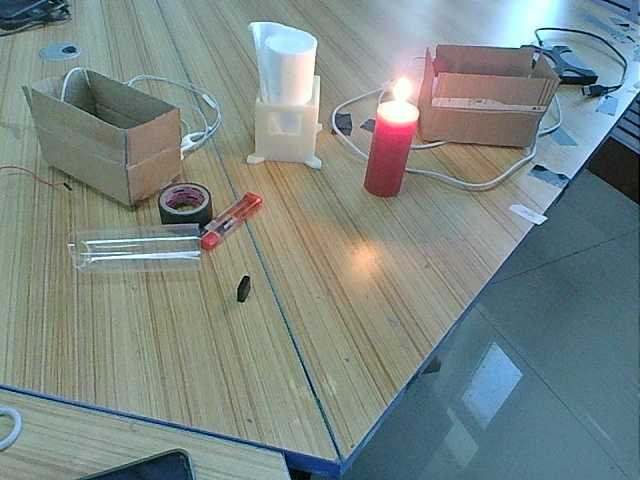candle: (369, 116, 415, 205)
fire: (369, 76, 428, 114)
